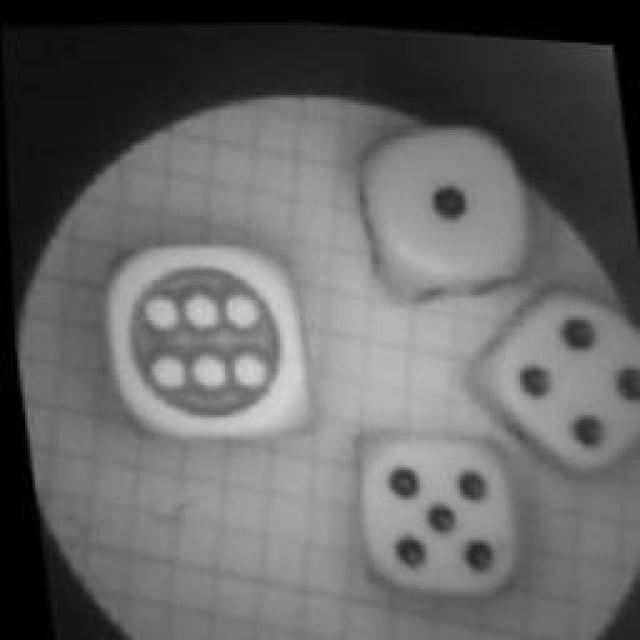dice_1: (346, 98, 552, 308)
dice_4: (450, 258, 640, 472)
dice_5: (338, 406, 538, 612)
dice_6: (81, 216, 336, 466)
